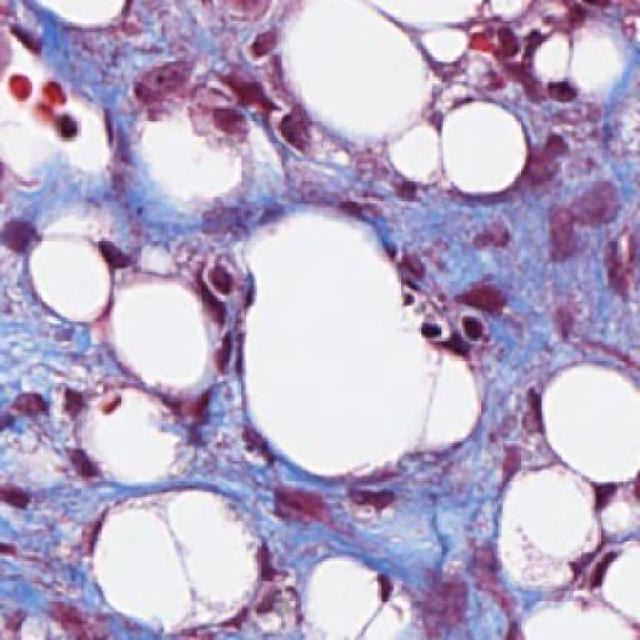ballooning: (83, 482, 275, 634), (268, 13, 442, 158), (488, 457, 610, 601)
